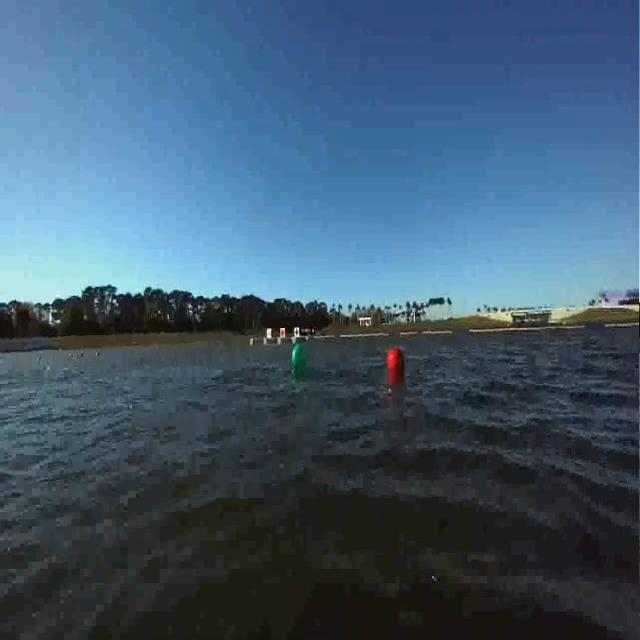green-buoy: (292, 344, 307, 372)
red-buoy: (386, 348, 402, 374)
